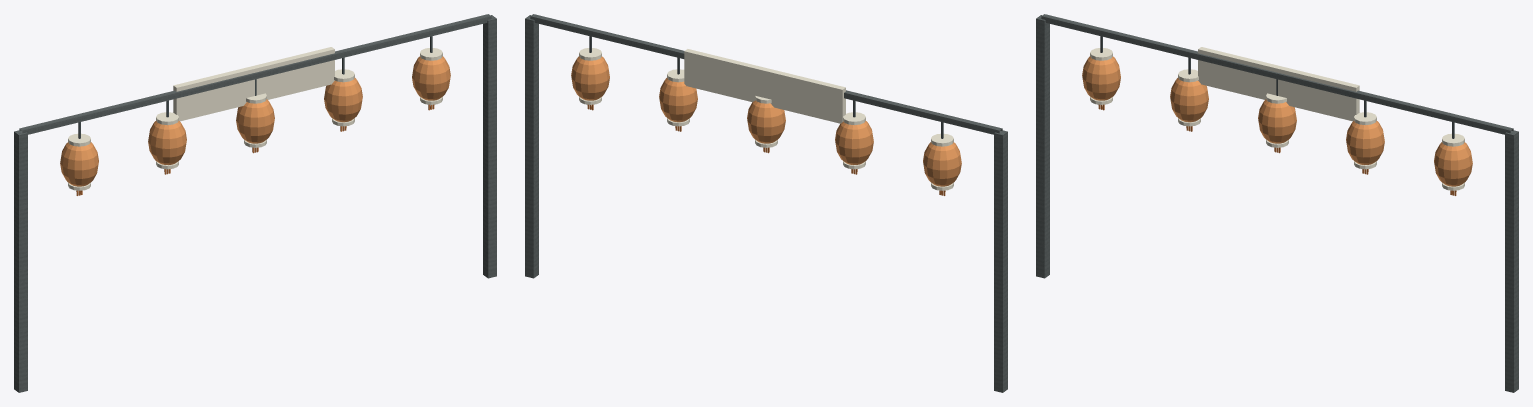
The model's file is tw_lantern_gate.glb.
The picture shows the model from 3 angles, left to right: view 1: azimuth 30°, elevation 25°; view 2: azimuth 150°, elevation 25°; view 3: azimuth 330°, elevation 25°; orthographic projection.
Visible parts, largest first — view 1: GalvanizedMetal, FictionalShopAccent, PaintedCream; view 2: GalvanizedMetal, PaintedCream, FictionalShopAccent; view 3: GalvanizedMetal, FictionalShopAccent, PaintedCream.
Boxes of the visible parts, <box> form: GalvanizedMetal: <box>14,14,496,392</box>; FictionalShopAccent: <box>60,56,450,186</box>; PaintedCream: <box>68,47,442,190</box>; GalvanizedMetal: <box>525,14,1007,392</box>; PaintedCream: <box>579,48,953,190</box>; FictionalShopAccent: <box>571,56,961,186</box>; GalvanizedMetal: <box>1036,14,1518,392</box>; FictionalShopAccent: <box>1082,56,1472,186</box>; PaintedCream: <box>1090,47,1464,190</box>.
Bounding box in the file's own units: 8.15 × 4.31 × 0.58.
5 materials, 2 textured.
